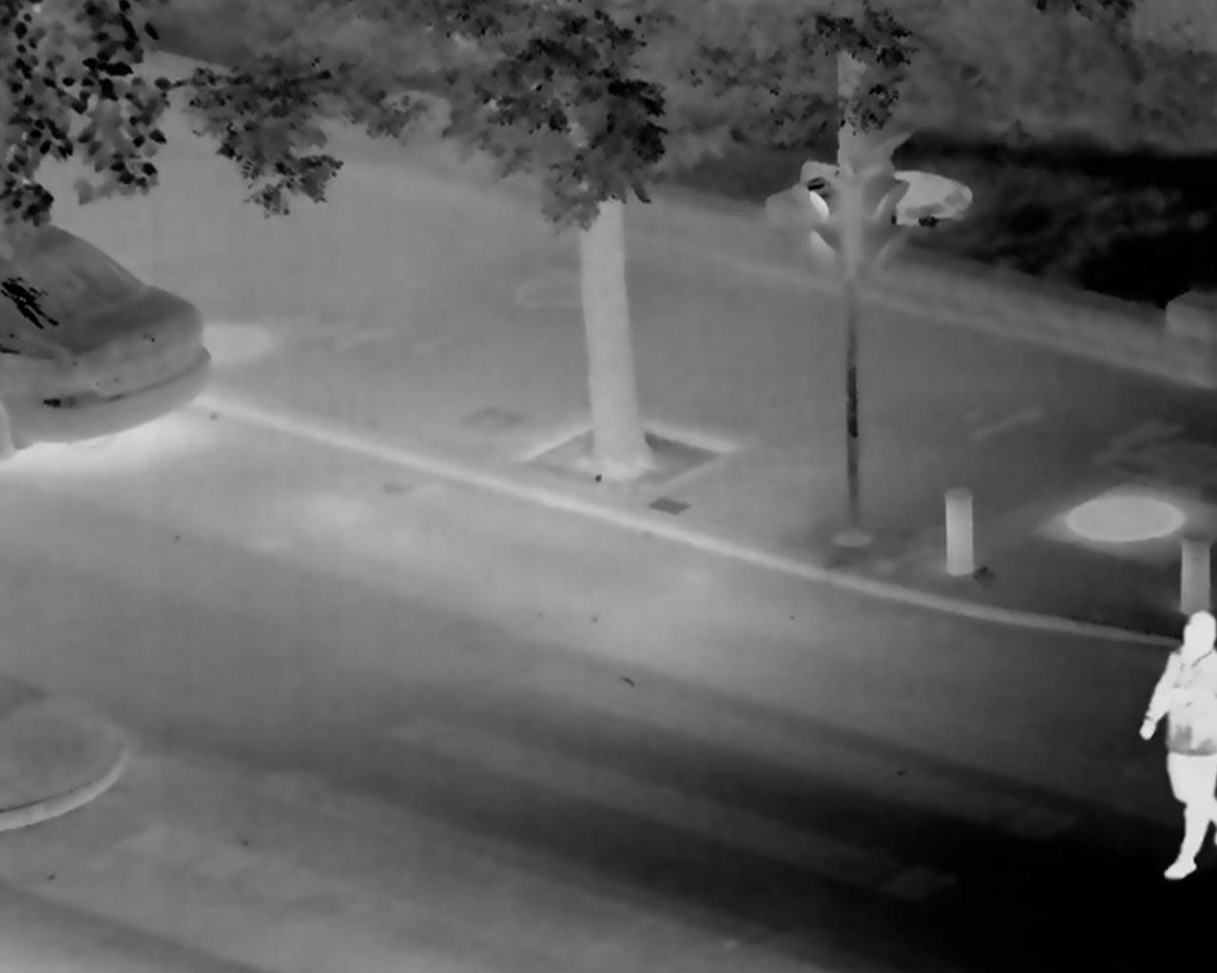person: (1130, 621, 1217, 870)
